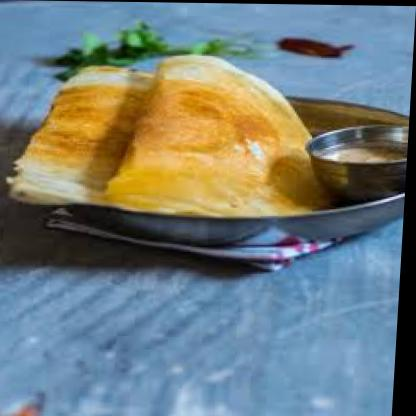dosa: (104, 53, 339, 215), (8, 66, 158, 205)
